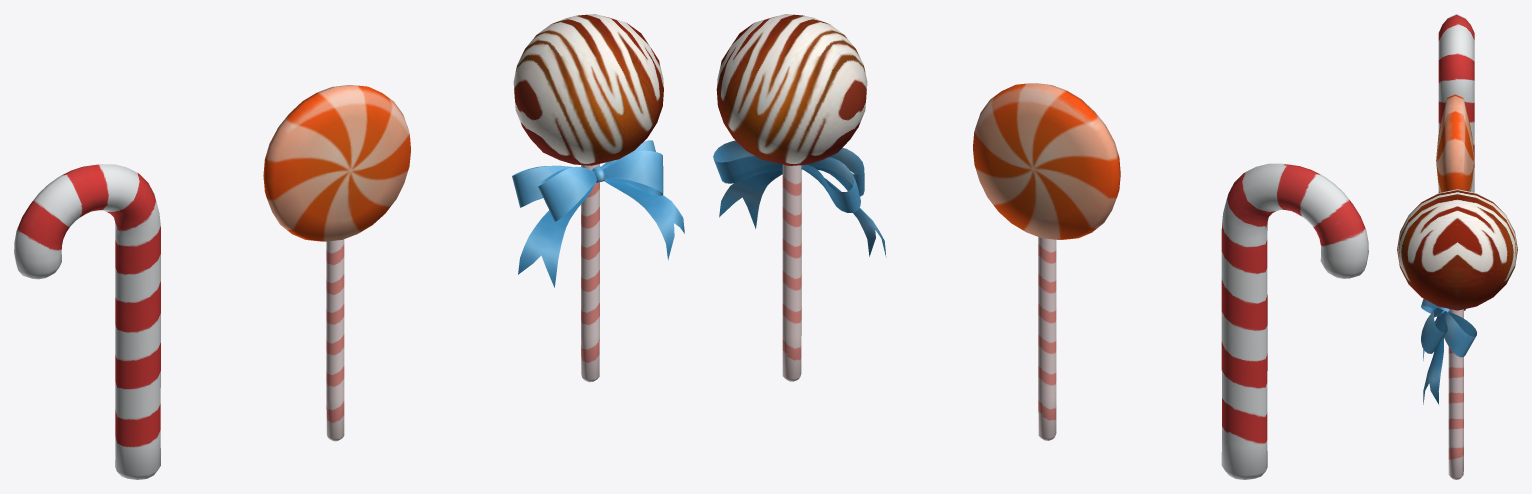
The model's file is Restaurant_Ice cream_Candy bar.FBX.
3 views of the same model, side by side, from view 1: azimuth 30°, elevation 25°; view 2: azimuth 150°, elevation 25°; view 3: azimuth 270°, elevation 25° (orthographic). The views are drawn at different scales.
Visible parts, largest first — view 1: Restaurant_Ice cream_Candy bar (×3); view 2: Restaurant_Ice cream_Candy bar (×3); view 3: Restaurant_Ice cream_Candy bar (×3).
Part boxes in pixels (bbox=[...]): Restaurant_Ice cream_Candy bar (×3): bbox=[14, 14, 684, 479]; Restaurant_Ice cream_Candy bar (×3): bbox=[713, 14, 1368, 479]; Restaurant_Ice cream_Candy bar (×3): bbox=[1397, 14, 1517, 479].
Size of the model in its own units: 3.22 by 1.69 by 0.651.
